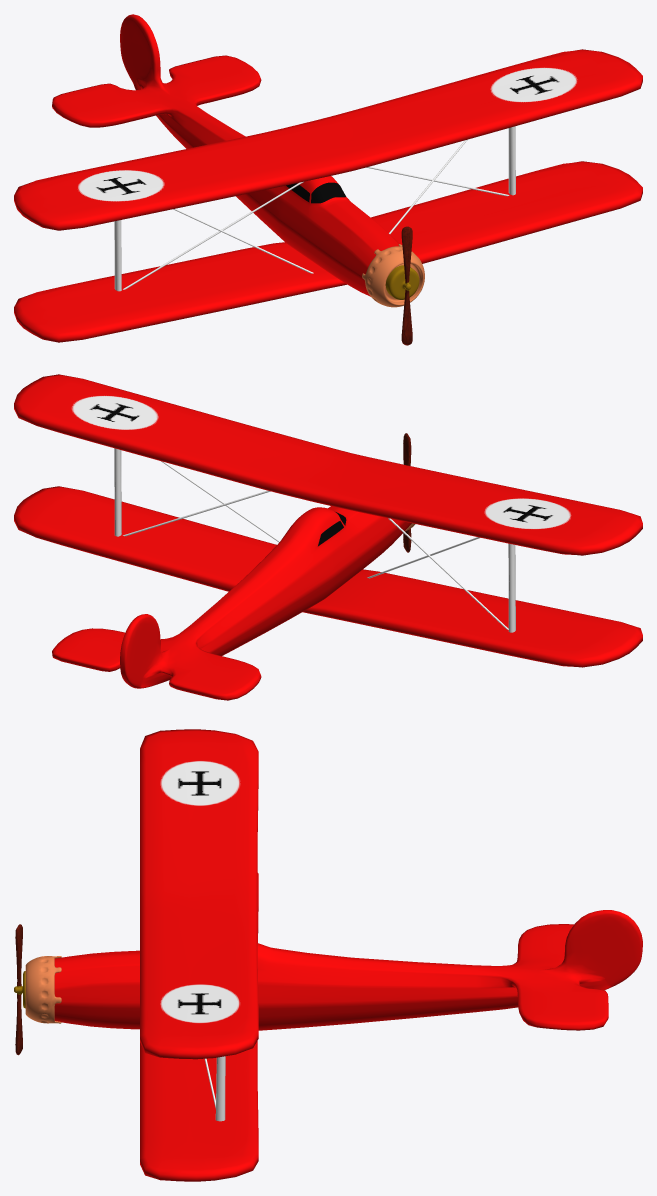
Rendered from OldStylePlane.fbx.
The picture shows the model from 3 angles, top to bottom: view 1: azimuth 30°, elevation 25°; view 2: azimuth 150°, elevation 25°; view 3: azimuth 270°, elevation 25°; orthographic projection. The views are drawn at different scales.
Visible parts, largest first — view 1: Plane_wings, Plane_body, Cylinder, Plane_engine, Plane_rotor; view 2: Plane_wings, Plane_body, Cylinder; view 3: Plane_wings, Plane_body, Plane_engine, Plane_rotor, Cylinder.
Boxes of the visible parts, bbox=[...] form: Plane_wings: bbox=[14, 49, 642, 342]; Plane_body: bbox=[52, 14, 399, 296]; Cylinder: bbox=[114, 126, 515, 291]; Plane_engine: bbox=[362, 244, 424, 307]; Plane_rotor: bbox=[385, 226, 419, 345]; Plane_wings: bbox=[14, 374, 642, 667]; Plane_body: bbox=[52, 506, 411, 700]; Cylinder: bbox=[114, 448, 515, 632]; Plane_wings: bbox=[140, 729, 258, 1181]; Plane_body: bbox=[54, 910, 642, 1030]; Plane_engine: bbox=[25, 956, 61, 1023]; Plane_rotor: bbox=[14, 924, 25, 1055]; Cylinder: bbox=[204, 1056, 225, 1121].
Bounding box in the file's own units: 8.28 × 1.98 × 6.8.
Materials: 5 (5 with a texture image).
